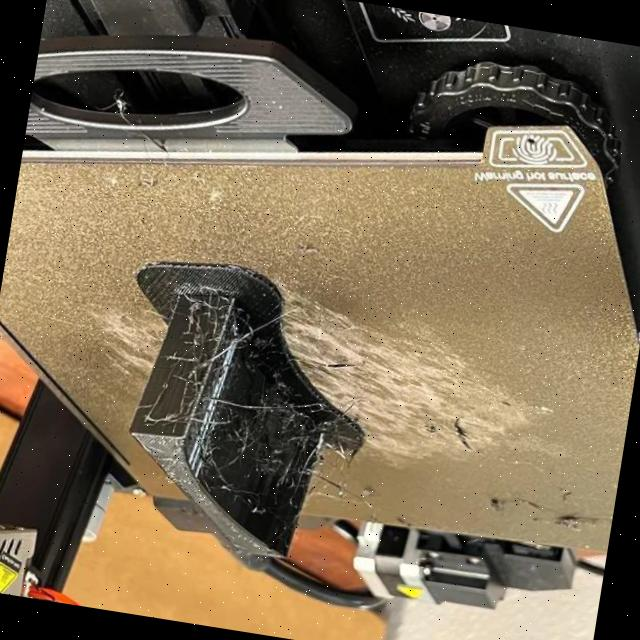stringing: (160, 291, 230, 444), (234, 396, 347, 486)
